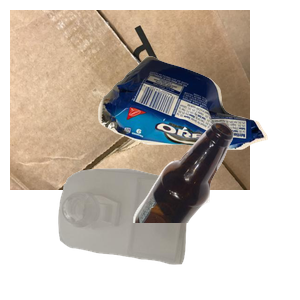cardboard: (10, 10, 250, 190)
glass: (130, 120, 300, 300)
plastic: (56, 166, 241, 300)
trash: (95, 53, 300, 195)
